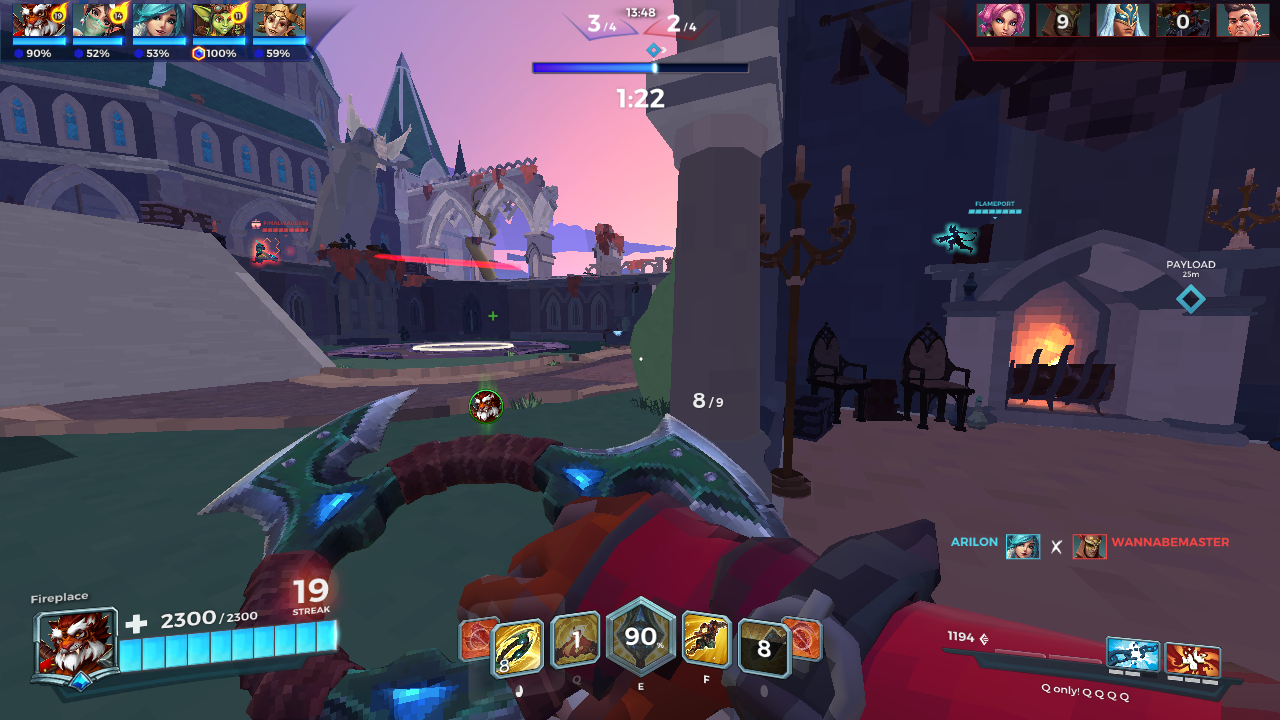model: (243, 236, 274, 264)
